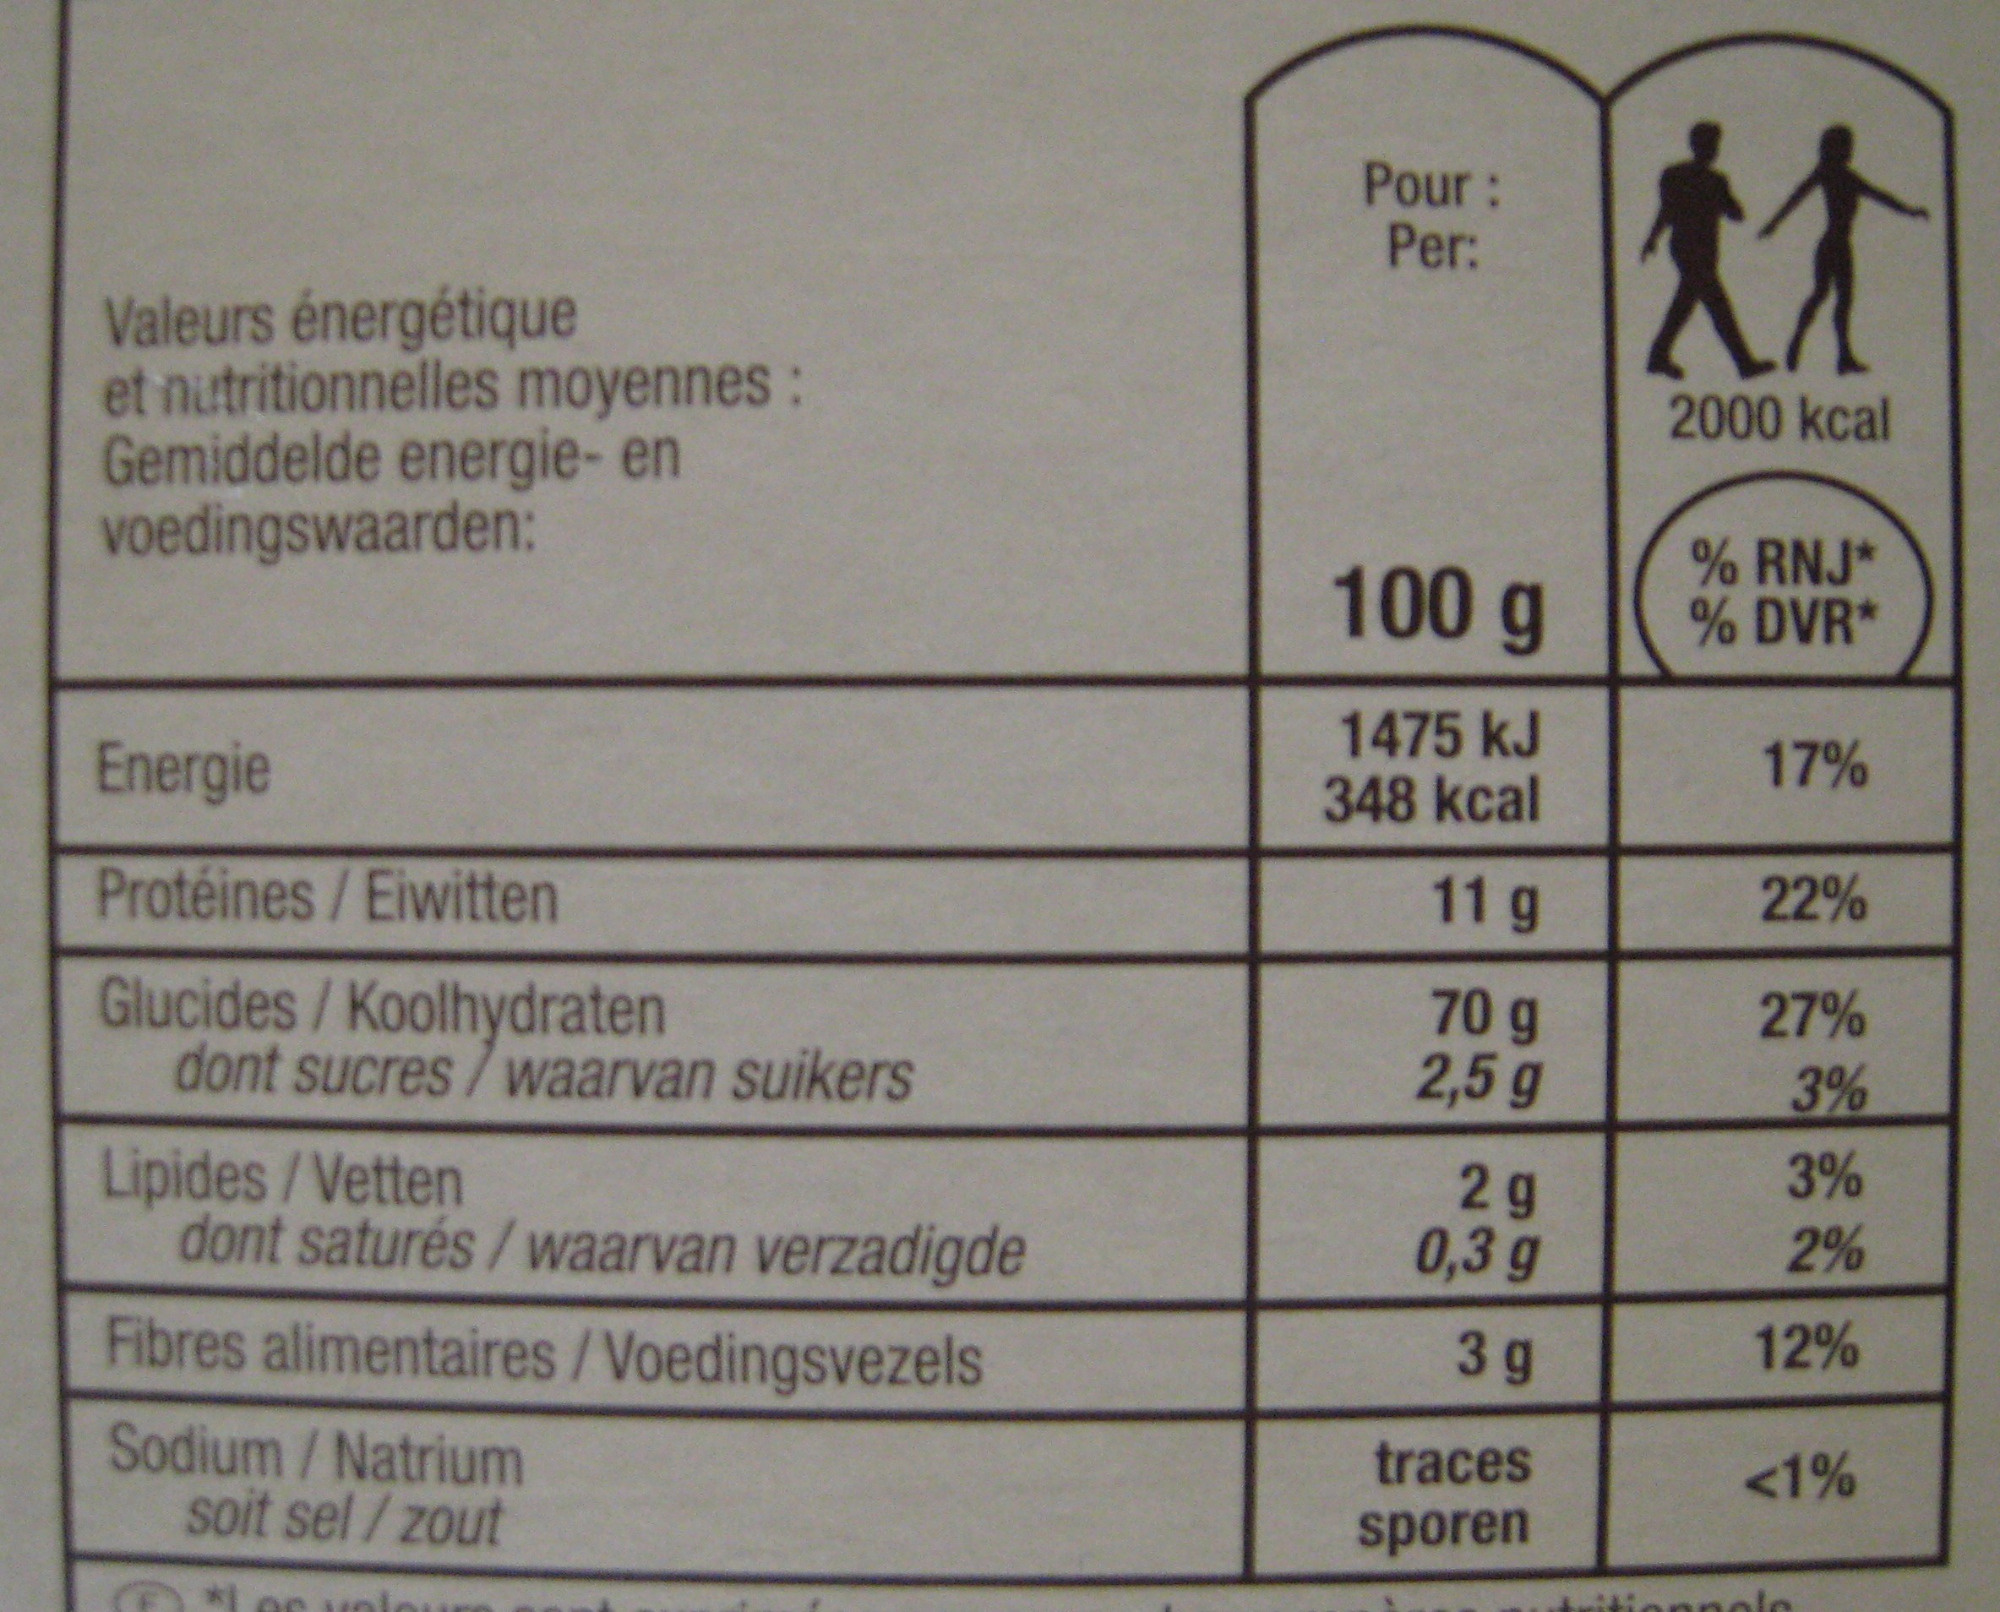column: (77, 683, 1038, 1576), (1630, 100, 1929, 1553), (1294, 143, 1569, 1563)
table: (49, 31, 1974, 1584)
